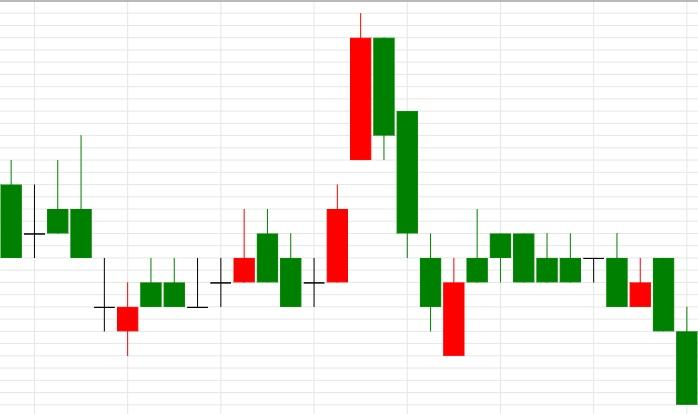bearish_engulfing_fall: (116, 209, 279, 355)
